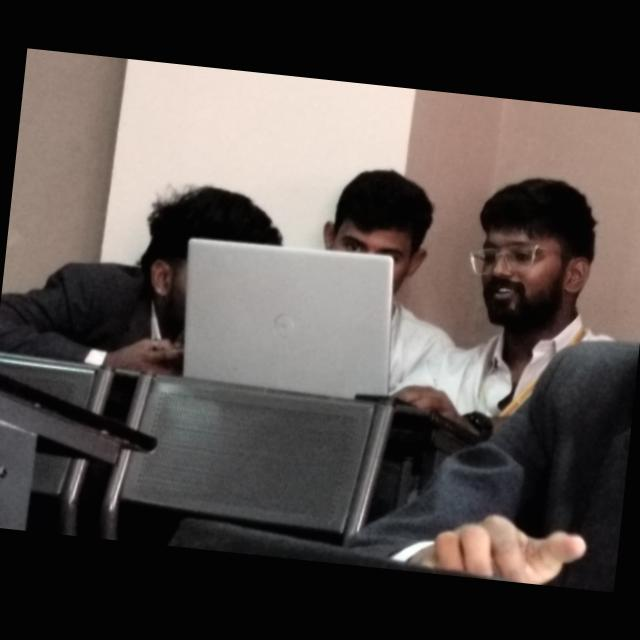laptop: (154, 229, 412, 405)
